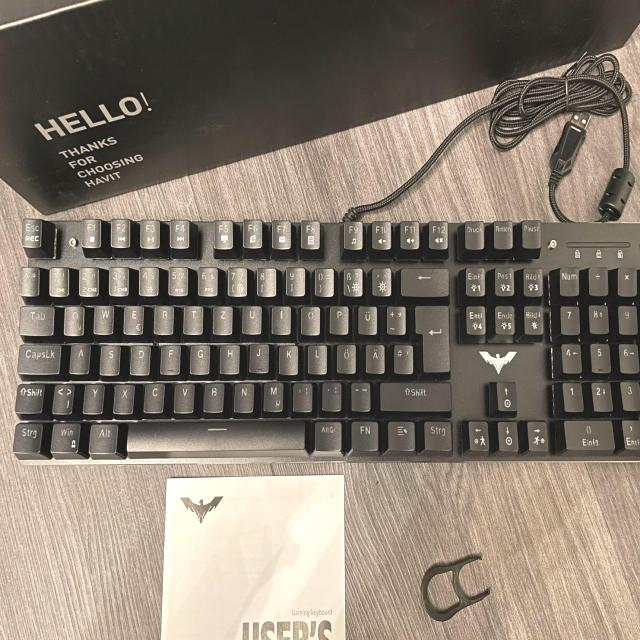0: (312, 266, 334, 296)
1: (47, 264, 68, 296)
2: (76, 264, 98, 296)
3: (107, 264, 129, 296)
4: (138, 264, 158, 296)
5: (167, 264, 188, 296)
6: (196, 264, 217, 296)
7: (226, 264, 248, 296)
8: (254, 265, 276, 296)
9: (283, 265, 305, 295)
a: (68, 341, 90, 373)
accent: (369, 264, 391, 295)
ae: (364, 341, 384, 373)
alt-left: (87, 420, 117, 453)
altgr-right: (312, 418, 342, 450)
b: (202, 379, 224, 411)
c: (142, 380, 164, 412)
caret: (19, 265, 39, 295)
comma: (290, 379, 312, 411)
d: (128, 341, 150, 374)
del: (399, 265, 448, 295)
e: (121, 302, 143, 334)
enter: (413, 303, 449, 373)
f: (159, 341, 180, 373)
g: (188, 341, 210, 373)
h: (218, 341, 240, 373)
hash: (392, 341, 412, 373)
i: (270, 303, 290, 333)
j: (247, 340, 268, 372)
k: (276, 341, 298, 374)
keyboard: (8, 214, 640, 472)
l: (305, 341, 327, 373)
less: (50, 380, 74, 413)
m: (261, 379, 283, 411)
minus: (348, 380, 370, 411)
n: (232, 380, 254, 412)
o: (298, 304, 320, 334)
oe: (335, 341, 356, 373)
p: (328, 303, 349, 333)
plus: (385, 303, 405, 333)
point: (320, 380, 342, 410)
q: (62, 303, 84, 335)
r: (152, 303, 173, 334)
s: (98, 341, 120, 374)
shift-left: (14, 380, 45, 412)
shift-lock: (15, 341, 61, 374)
shift-right: (378, 380, 450, 410)
space: (123, 418, 307, 453)
ss: (341, 265, 363, 296)
strg-left: (12, 420, 42, 452)
strg-right: (422, 418, 452, 450)
t: (182, 303, 202, 333)
tab: (17, 303, 54, 335)
u: (240, 303, 262, 333)
ue: (356, 303, 377, 334)
v: (172, 380, 194, 412)
w: (92, 303, 113, 334)
x: (112, 380, 134, 413)
y: (81, 380, 103, 413)
z: (211, 303, 232, 334)
